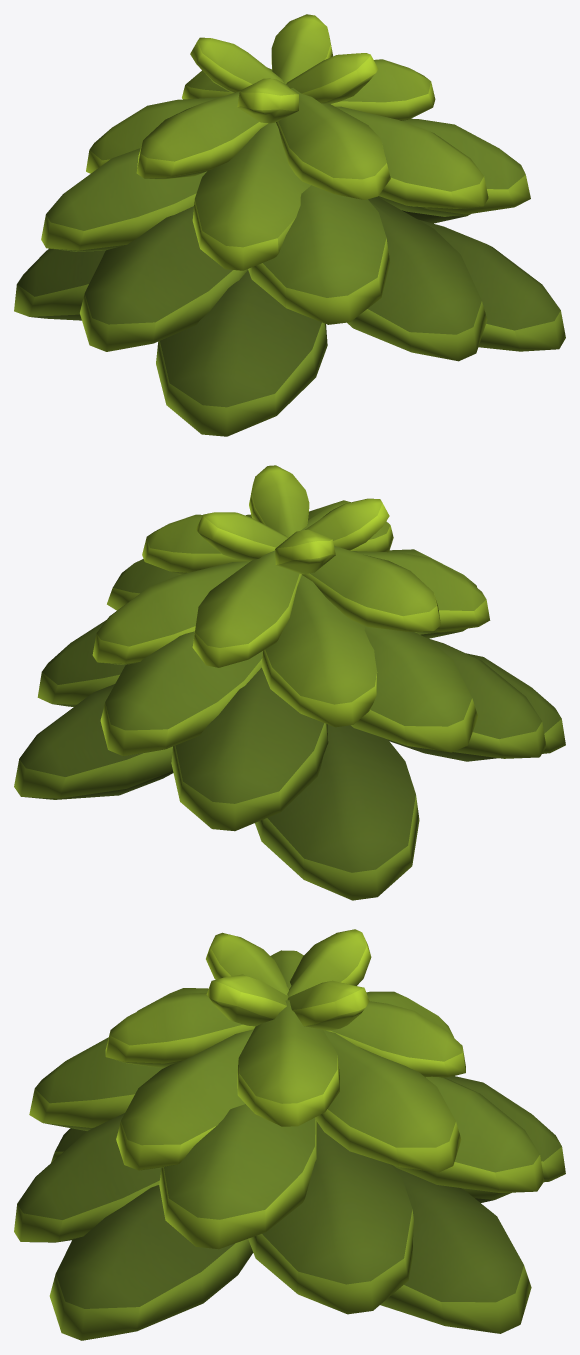
The model's file is oval_leave_plant_plain_LOD_group.fbx.
3 renders of one model, top to bottom at view 1: azimuth 30°, elevation 25°; view 2: azimuth 150°, elevation 25°; view 3: azimuth 270°, elevation 25°, orthographic. The views are drawn at different scales.
Parts seen in each view (by area): view 1: oval_leave_plant_plain_LOD0; view 2: oval_leave_plant_plain_LOD0; view 3: oval_leave_plant_plain_LOD0.
Boxes of the visible parts, x1,y1,x2,y2 form: oval_leave_plant_plain_LOD0: (14,14,565,436); oval_leave_plant_plain_LOD0: (14,465,565,900); oval_leave_plant_plain_LOD0: (14,929,565,1340).
Size of what is drawn, in the model's own units: 253 by 158 by 251.
1 material, 1 textured.
